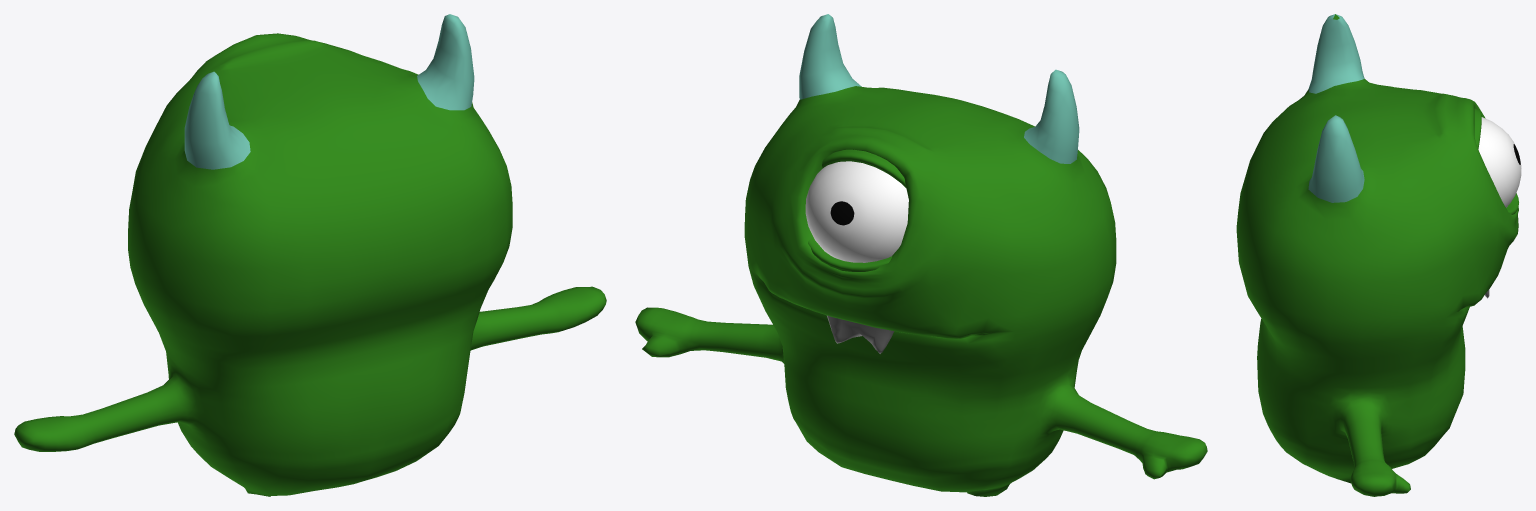
The model's file is mike2.FBX.
The picture shows the model from 3 angles, left to right: view 1: azimuth 30°, elevation 25°; view 2: azimuth 150°, elevation 25°; view 3: azimuth 270°, elevation 25°; orthographic projection. The views are drawn at different scales.
Visible parts, largest first — view 1: skin, horn; view 2: skin, eyeball, horn, tooth, eyelidT, eyelidB; view 3: skin, horn, eyeball.
Part boxes in pixels (x1,y1,x2,y2): skin: (14, 33, 606, 496); horn: (184, 14, 474, 169); skin: (635, 86, 1207, 496); eyeball: (805, 161, 908, 262); horn: (799, 14, 1079, 163); tooth: (827, 315, 894, 353); eyelidT: (822, 149, 906, 187); eyelidB: (808, 237, 892, 271); skin: (1236, 14, 1518, 496); horn: (1308, 14, 1364, 202); eyeball: (1478, 117, 1521, 207).
Size of the model in its own units: 7.46 by 5.4 by 3.57.
